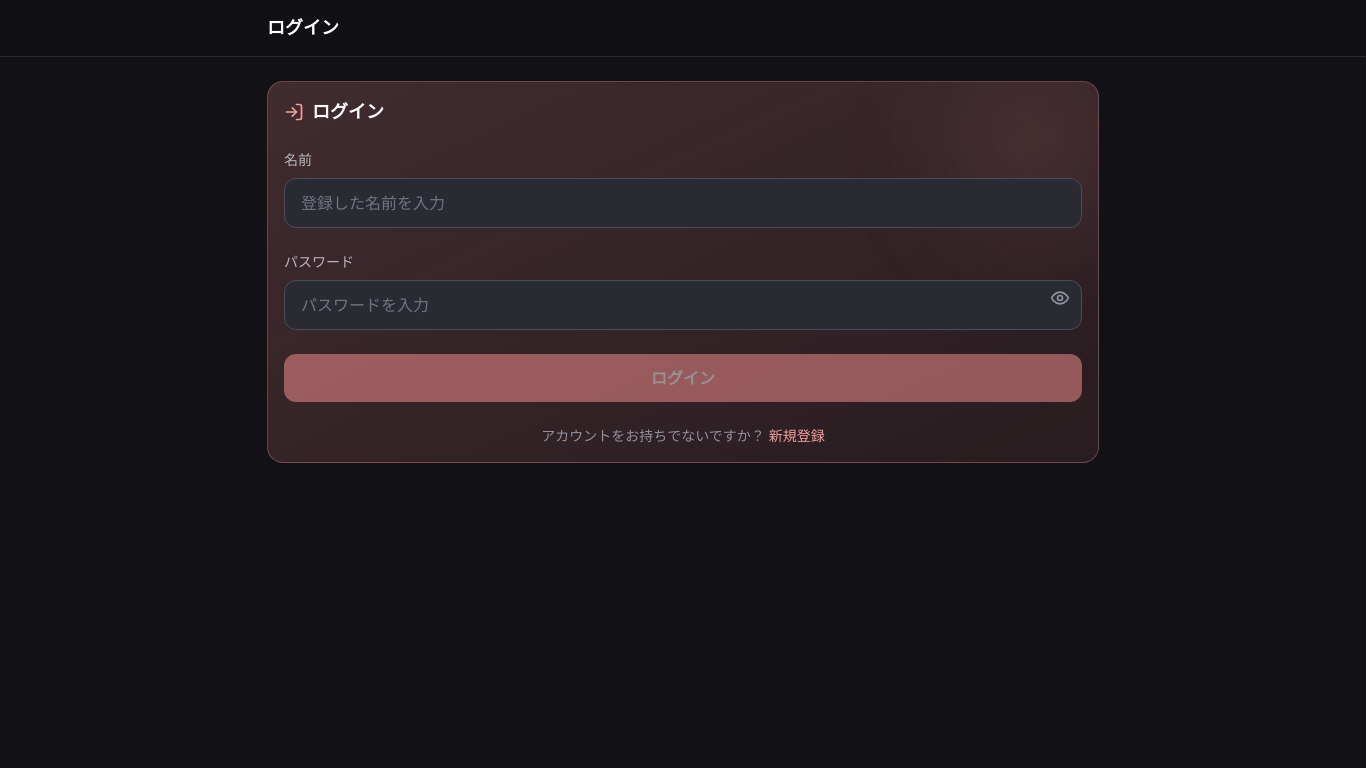
Login › ログイン処理 › 認証エラー時にエラーメッセージが表示される
In the field labelled "名前": (683, 203) [284,178,1082,228], type "存在しないユーザー"
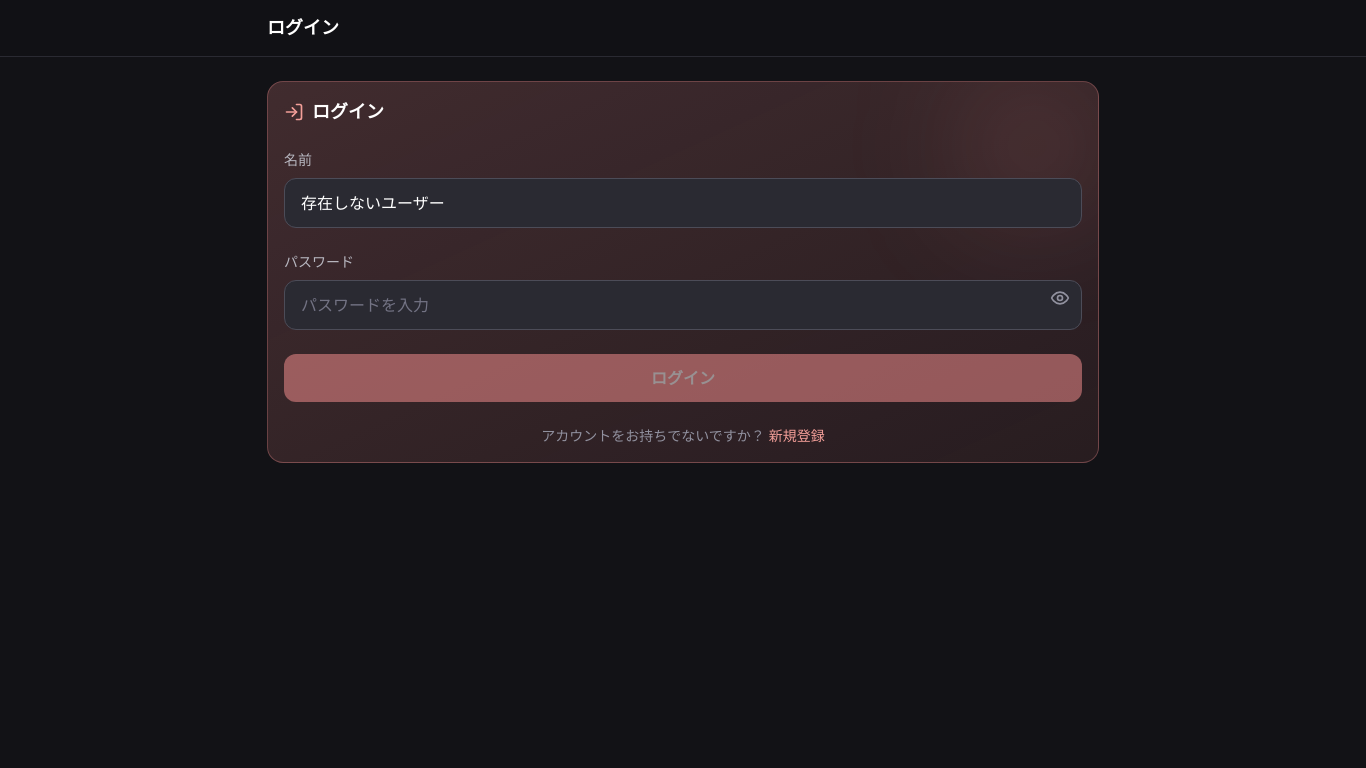
In the password field labelled "パスワード": (683, 305) [284,280,1082,330], type "password"
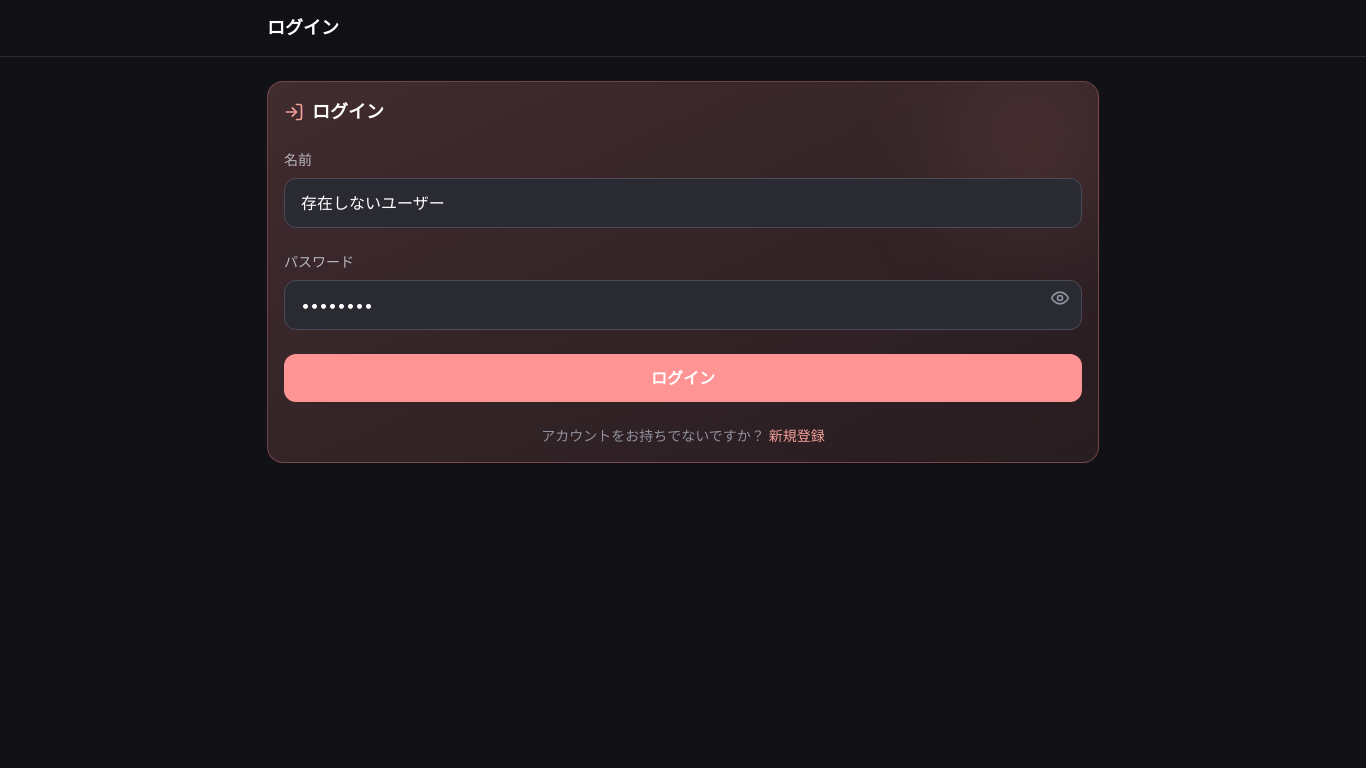
Expected: the button "ログイン" is enabled
Click the button "ログイン": click(683, 378) [284,354,1082,402]
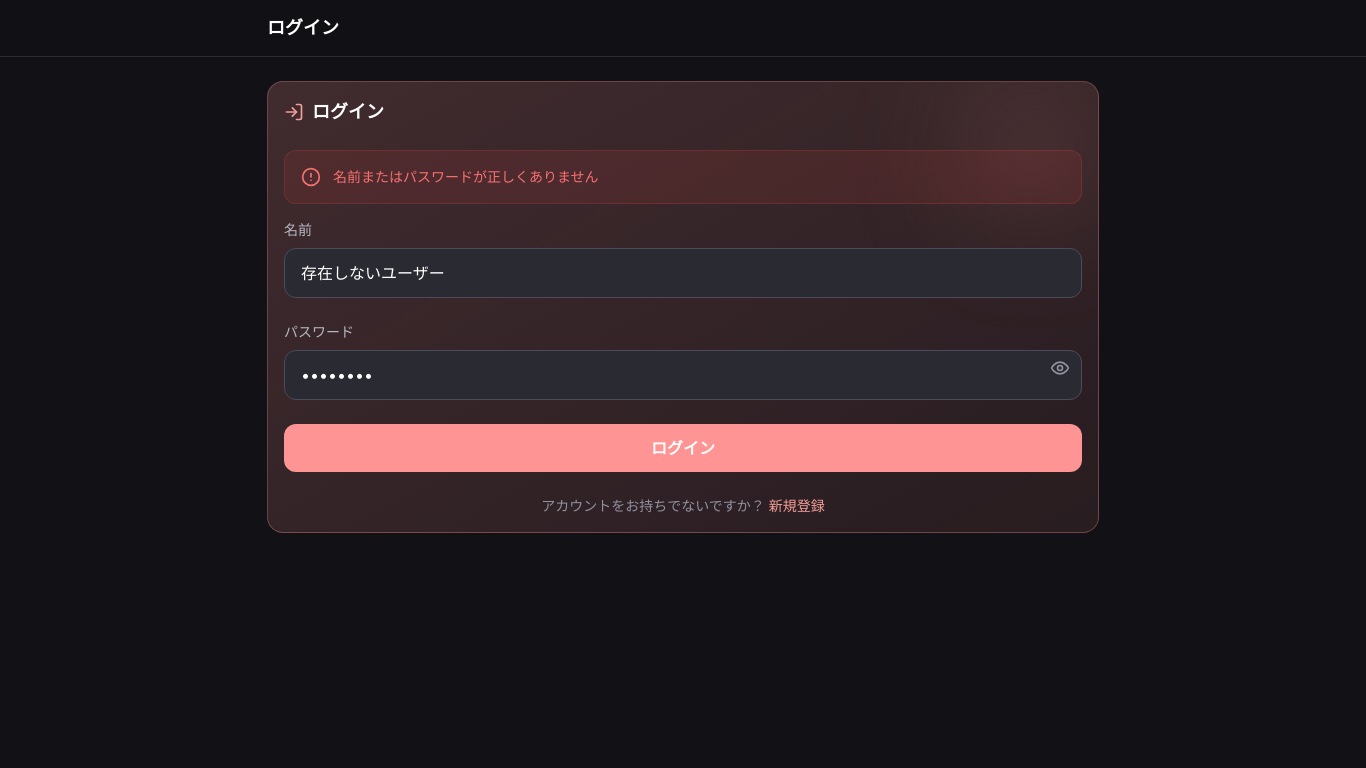
Expected: the text "名前またはパスワードが正しくありません" is shown, [333,167,599,187]
